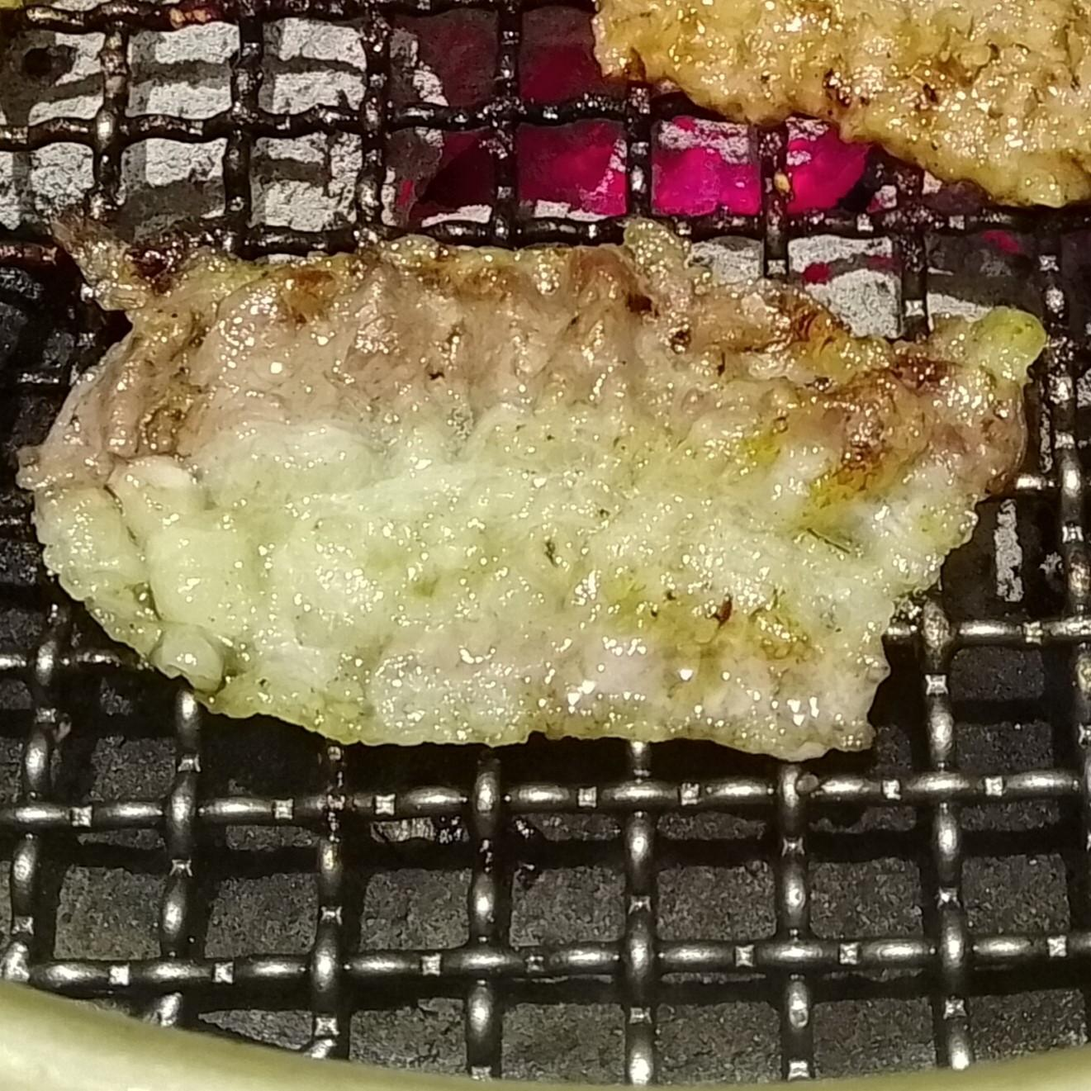Well-Cooked: (18, 221, 1046, 765), (593, 0, 1090, 211)
